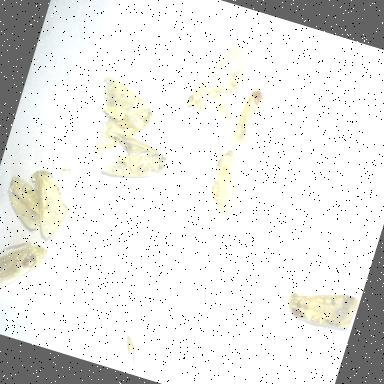abw: (74, 66, 164, 172), (176, 24, 261, 128), (192, 140, 270, 236), (90, 122, 180, 200), (9, 160, 84, 252), (278, 270, 362, 342), (0, 218, 56, 313), (224, 76, 276, 161), (0, 167, 56, 238)
